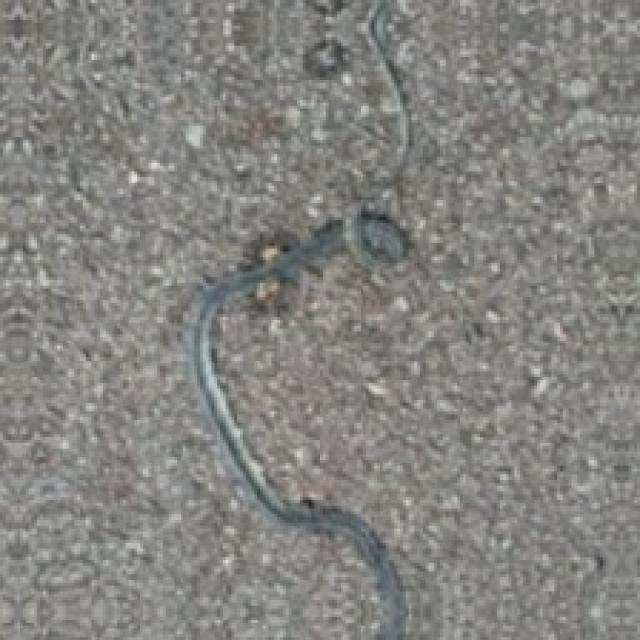paradise tree snake: (186, 0, 414, 637), (186, 211, 406, 637)
